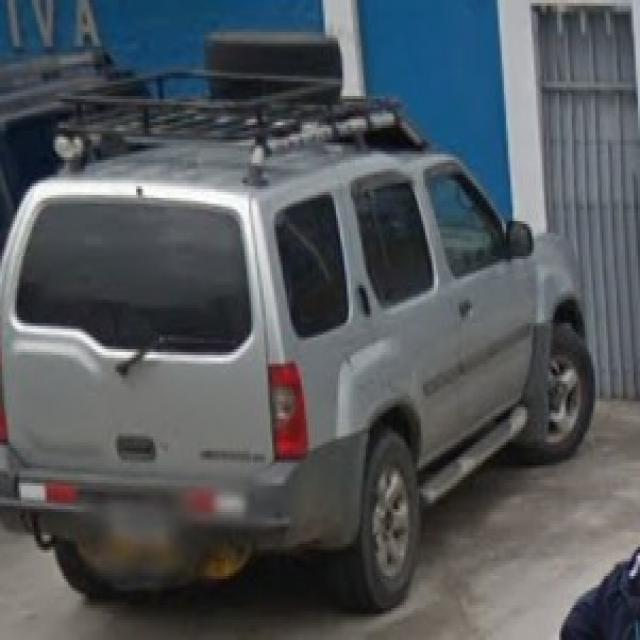Car: (0, 109, 588, 599)
